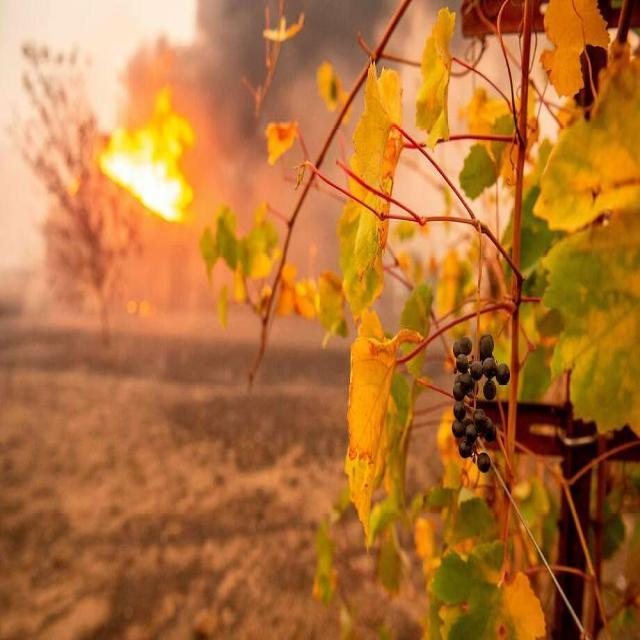Fire: (86, 96, 212, 234)
Smoke: (112, 0, 428, 181)
